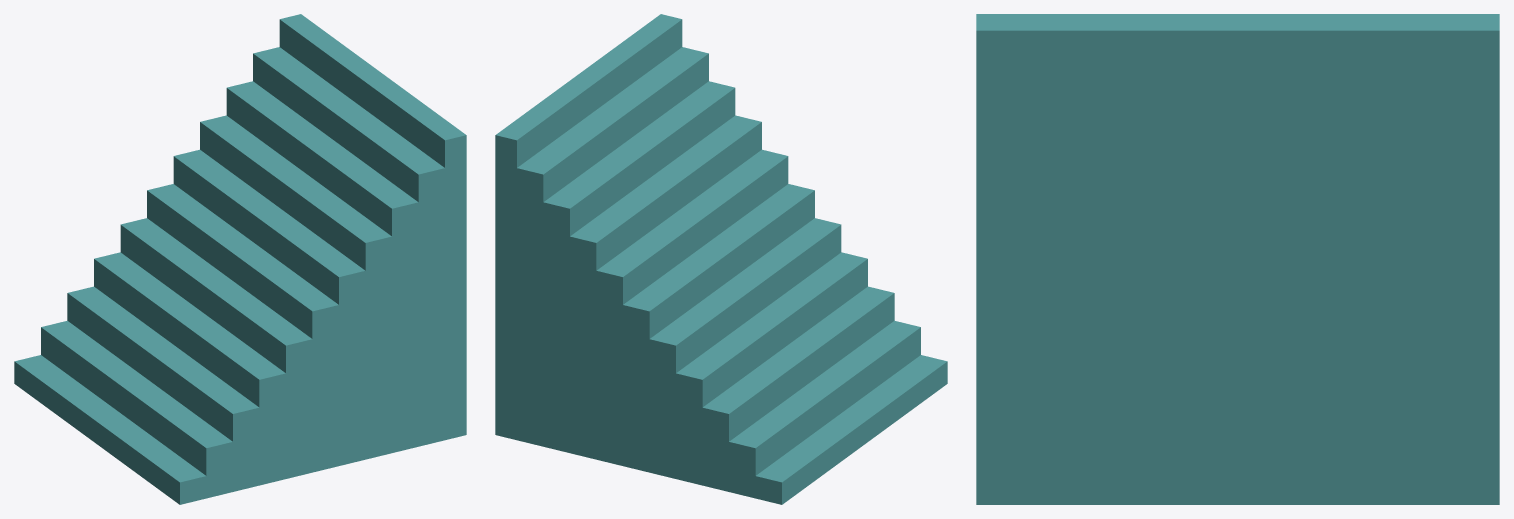
The model's file is stairway_04.fbx.
3 renders of one model, left to right at view 1: azimuth 30°, elevation 25°; view 2: azimuth 150°, elevation 25°; view 3: azimuth 270°, elevation 25°, orthographic. The views are drawn at different scales.
Visible parts, largest first — view 1: stairway_04; view 2: stairway_04; view 3: stairway_04.
Boxes of the visible parts, bbox=[...] form: stairway_04: bbox=[14, 14, 466, 504]; stairway_04: bbox=[495, 14, 947, 504]; stairway_04: bbox=[976, 14, 1499, 504].
Bounding box in the file's own units: 4 × 4 × 4.
